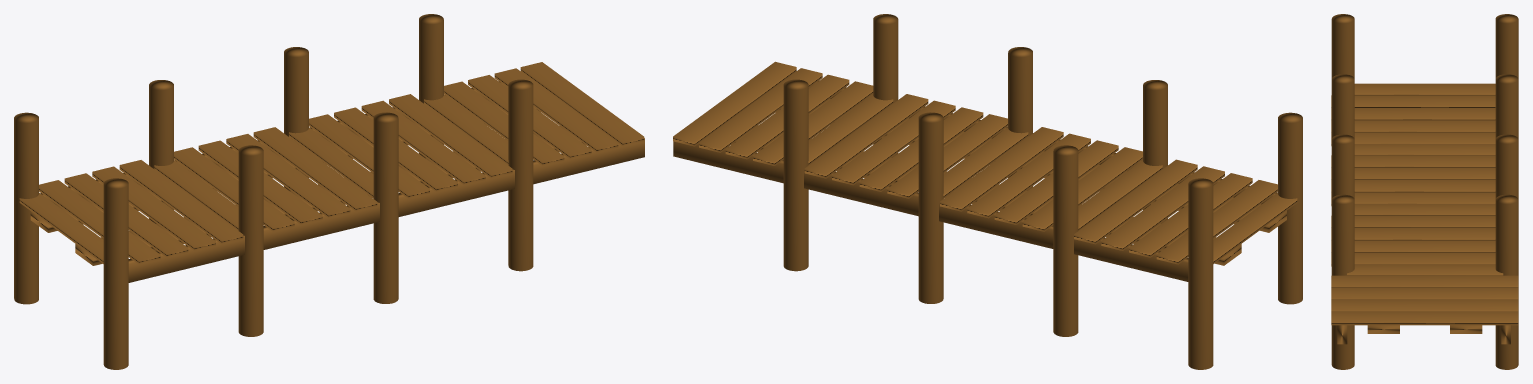
The model's file is pier.glb.
3 views of the same model, side by side, from view 1: azimuth 30°, elevation 25°; view 2: azimuth 150°, elevation 25°; view 3: azimuth 270°, elevation 25° (orthographic). The views are drawn at different scales.
Visible parts, largest first — view 1: pCube2, pCylinder5, pCylinder7, pCylinder6, pCylinder8, pCylinder1, pCube22, pCube18, pCube11, pCube3, pCube21, pCube10 (+19 smaller); view 2: pCube1, pCylinder1, pCylinder4, pCylinder3, pCylinder2, pCylinder5, pCube11, pCube22, pCube18, pCube3, pCube21, pCube10 (+19 smaller); view 3: pCylinder4, pCube3, pCylinder7, pCube5, pCube6, pCube4, pCube10, pCube15, pCube19, pCube11, pCube16, pCube17 (+20 smaller).
Boxes of the visible parts, x1,y1,x2,y2 form: pCube2: (128, 138, 644, 282); pCylinder5: (103, 178, 128, 369); pCylinder7: (508, 79, 533, 271); pCylinder6: (373, 112, 398, 303); pCylinder8: (238, 145, 263, 336); pCylinder1: (14, 112, 38, 304); pCube22: (119, 160, 243, 244); pCube18: (253, 127, 377, 211); pCube11: (389, 94, 512, 178); pCube3: (520, 62, 644, 146); pCube21: (92, 166, 215, 251); pCube10: (361, 100, 485, 185); pCube1: (673, 141, 1188, 281); pCylinder1: (1188, 178, 1213, 369); pCylinder4: (783, 79, 808, 271); pCylinder3: (918, 112, 943, 303); pCylinder2: (1053, 145, 1078, 336); pCylinder5: (1278, 112, 1302, 304); pCube11: (804, 94, 928, 178); pCube22: (1074, 159, 1197, 244); pCube18: (940, 127, 1063, 211); pCube3: (673, 61, 796, 146); pCube21: (1101, 166, 1224, 250); pCube10: (832, 100, 955, 185); pCylinder4: (1495, 194, 1518, 369); pCube3: (1331, 311, 1518, 325); pCylinder7: (1331, 194, 1354, 369); pCube5: (1331, 287, 1518, 299); pCube6: (1331, 275, 1518, 287); pCube4: (1331, 299, 1518, 311); pCube10: (1331, 240, 1495, 252); pCube15: (1331, 155, 1495, 167); pCube19: (1331, 95, 1495, 107); pCube11: (1331, 252, 1495, 266); pCube16: (1331, 167, 1495, 179); pCube17: (1331, 180, 1495, 192).
Size of the model in its own units: 24 by 7.74 by 7.93.
1 material, 1 textured.
